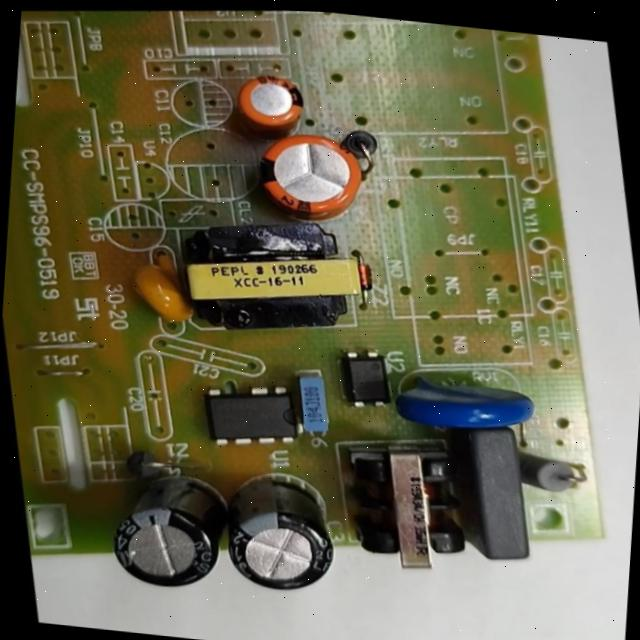Cap1: (239, 117, 381, 238)
Cap2: (217, 53, 330, 148)
Cap3: (198, 451, 360, 609)
Cap4: (84, 458, 250, 609)
MOSFET: (191, 370, 316, 462)
Mov: (369, 347, 550, 447)
Resistor: (503, 435, 602, 506)
Transformer: (153, 198, 386, 358), (323, 426, 492, 590)
